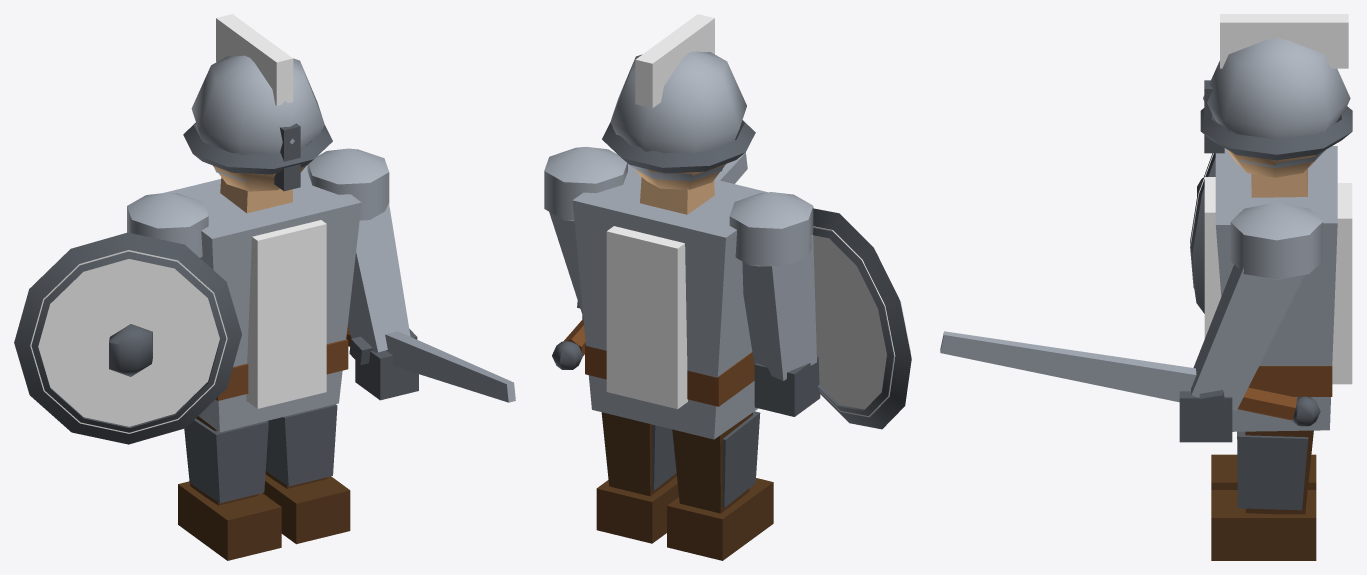
Rendered from Soldier_FirstAge.glb.
3 renders of one model, left to right at view 1: azimuth 30°, elevation 25°; view 2: azimuth 150°, elevation 25°; view 3: azimuth 270°, elevation 25°, orthographic. The views are drawn at different scales.
Visible parts, largest first — view 1: Steel, Left_Team, Team, Left_Metal, Right_Steel, LegA_Dark, LegA_Metal, LegB_Metal, LegB_Dark, Metal, Right_Metal, Skin (+1 smaller); view 2: Steel, Team, Left_Team, Left_Metal, LegA_Dark, Left_Steel, LegB_Dark, Metal, Leather, LegA_Metal, Skin, Right_Steel (+2 smaller); view 3: Steel, Right_Steel, Team, LegB_Dark, LegB_Metal, Metal, Right_Metal, Skin, Leather, Left_Metal, Right_Leather, LegA_Dark.
Boxes of the visible parts, bbox=[...] form: Steel: bbox=[127, 55, 389, 432]; Left_Team: bbox=[30, 250, 227, 433]; Team: bbox=[216, 14, 326, 408]; Left_Metal: bbox=[14, 232, 241, 444]; Right_Steel: bbox=[348, 203, 515, 402]; LegA_Dark: bbox=[178, 416, 281, 560]; LegA_Metal: bbox=[184, 418, 268, 503]; LegB_Metal: bbox=[265, 404, 337, 486]; LegB_Dark: bbox=[263, 471, 350, 544]; Metal: bbox=[183, 122, 332, 191]; Right_Metal: bbox=[349, 329, 418, 400]; Skin: bbox=[213, 165, 305, 213]; Steel: bbox=[544, 51, 813, 439]; Team: bbox=[606, 14, 714, 409]; Left_Team: bbox=[813, 226, 910, 417]; Left_Metal: bbox=[754, 208, 911, 429]; LegA_Dark: bbox=[667, 412, 773, 560]; Left_Steel: bbox=[742, 235, 816, 380]; LegB_Dark: bbox=[596, 412, 678, 543]; Metal: bbox=[602, 120, 755, 173]; Leather: bbox=[585, 344, 754, 406]; LegA_Metal: bbox=[672, 411, 760, 507]; Skin: bbox=[635, 164, 725, 214]; Right_Steel: bbox=[549, 152, 747, 316]; Steel: bbox=[1203, 38, 1350, 431]; Right_Steel: bbox=[940, 264, 1304, 410]; Team: bbox=[1204, 14, 1352, 384]; LegB_Dark: bbox=[1211, 430, 1316, 560]; LegB_Metal: bbox=[1237, 431, 1308, 510]; Metal: bbox=[1200, 80, 1352, 160]; Right_Metal: bbox=[1179, 390, 1320, 442]; Skin: bbox=[1226, 149, 1316, 197]; Leather: bbox=[1248, 366, 1332, 396]; Left_Metal: bbox=[1190, 153, 1215, 313]; Right_Leather: bbox=[1238, 387, 1296, 420]; LegA_Dark: bbox=[1211, 454, 1316, 489].
Bounding box in the file's own units: 0.6532 × 0.8325 × 0.6091.
